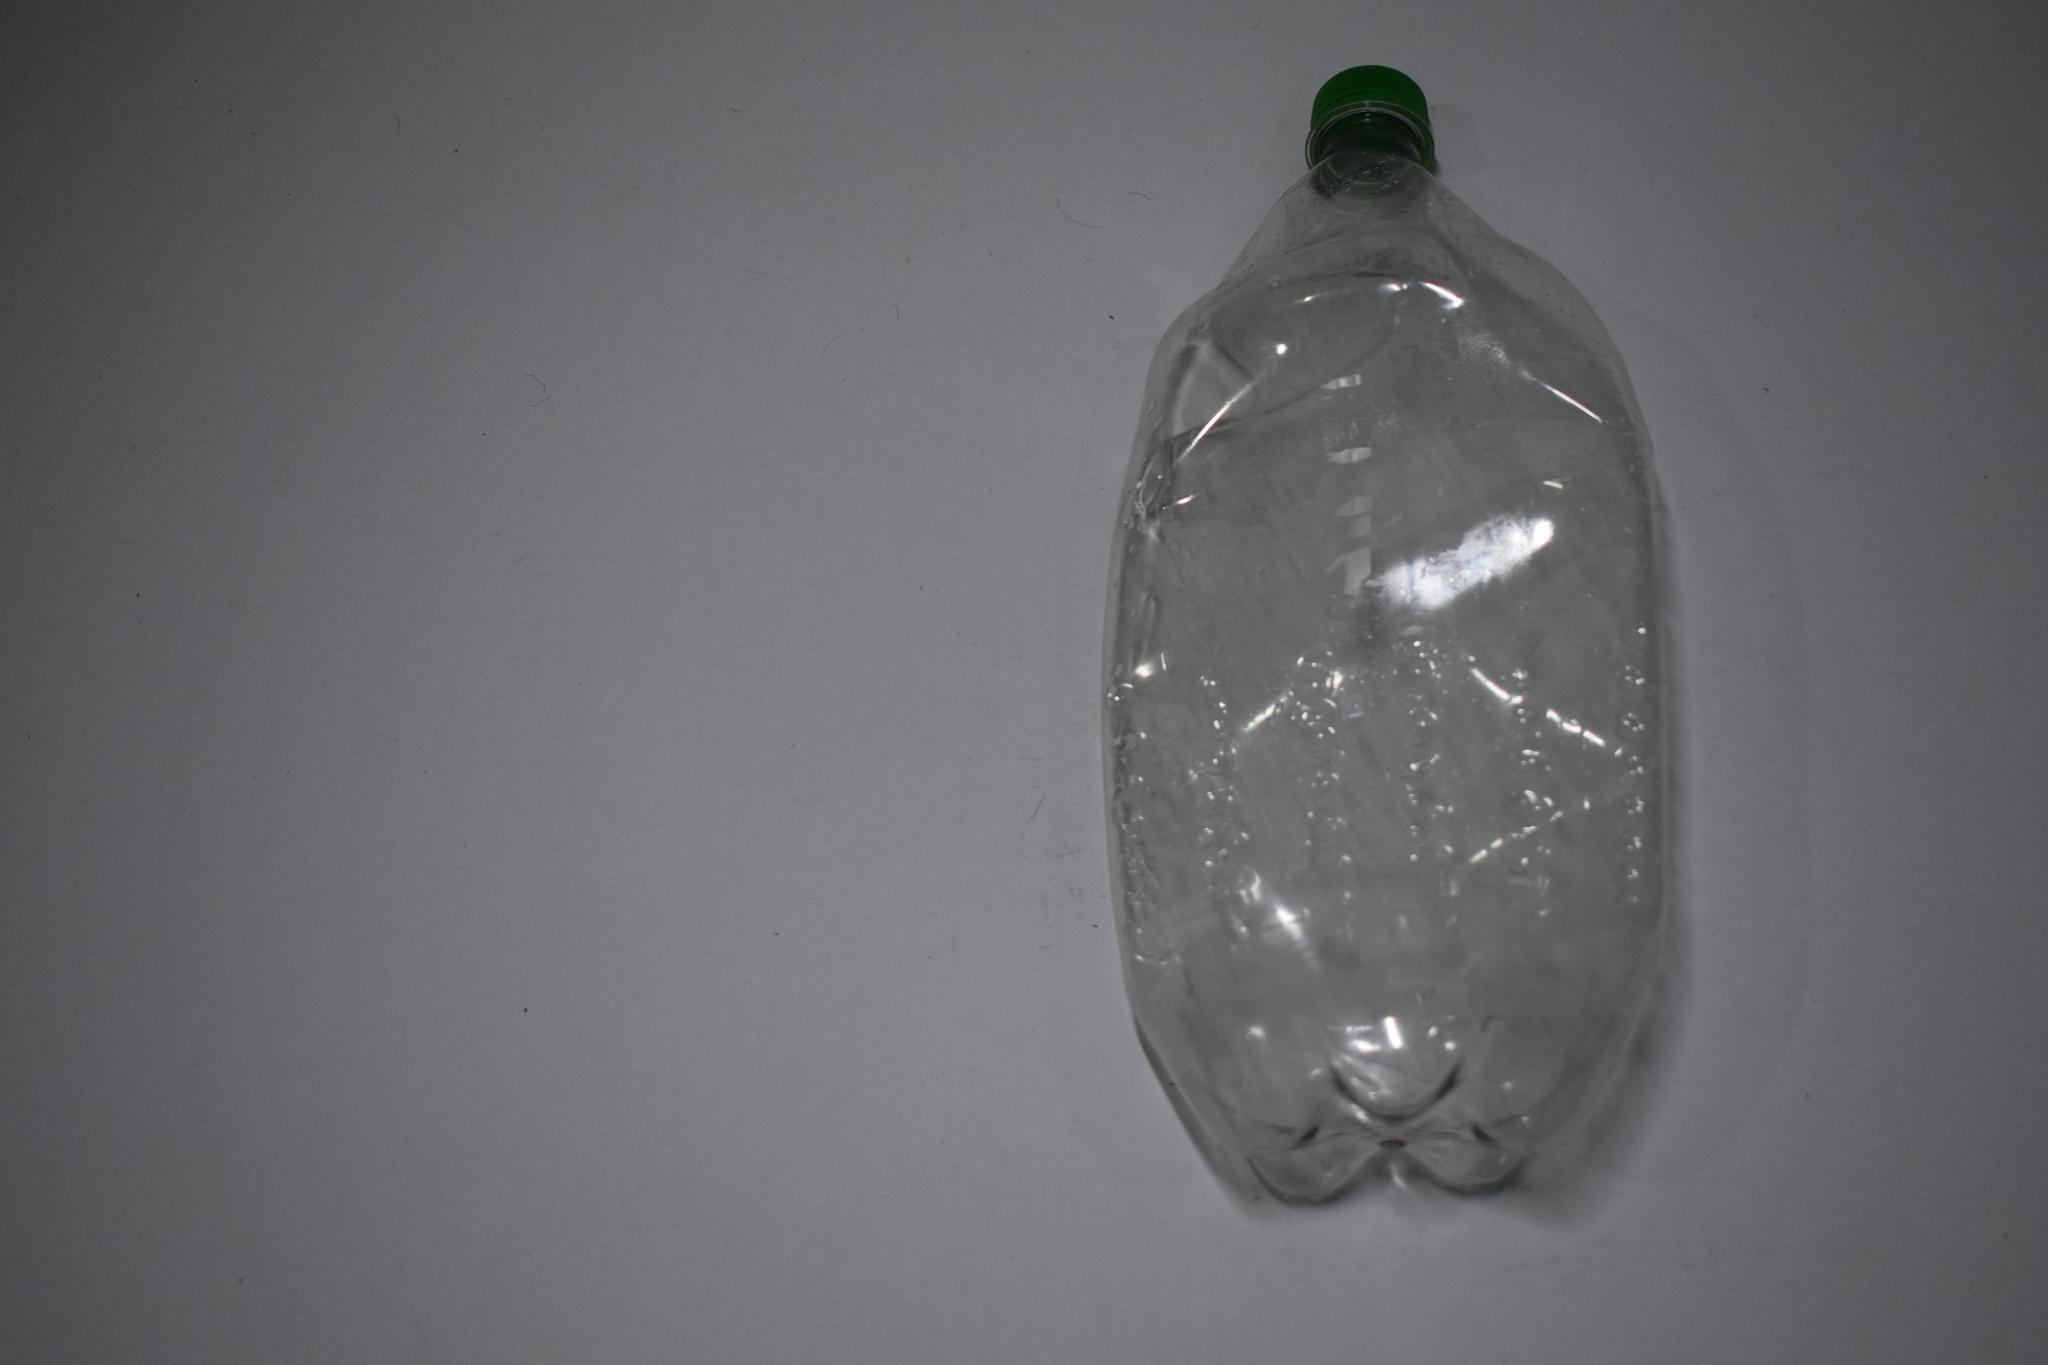bottle: (1106, 62, 1686, 1218)
